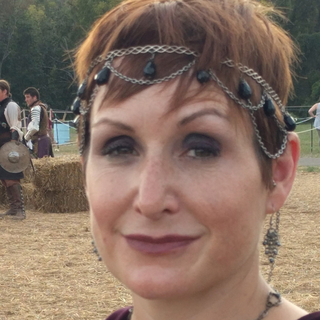eye: (167, 138, 222, 166), (96, 135, 142, 164)
